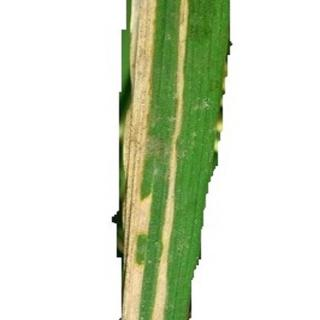Hawar-Daun: (108, 5, 166, 320), (147, 2, 200, 320)
